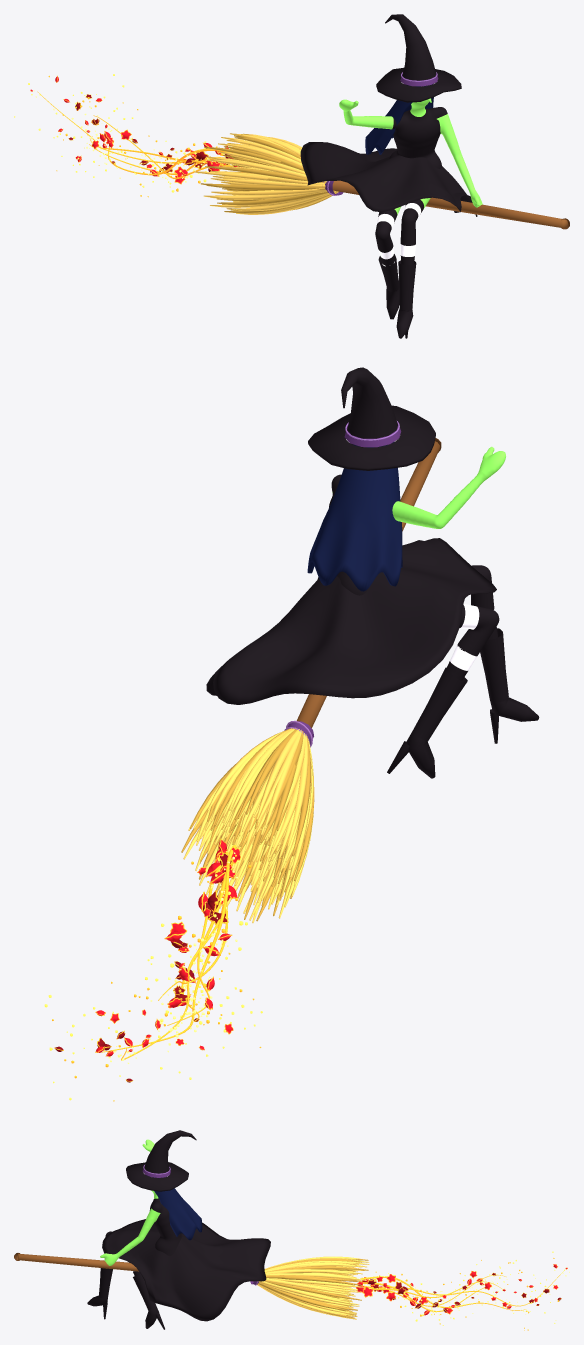
Rendered from witch_broom.glb.
3 views of the same model, one above another, from view 1: azimuth 30°, elevation 25°; view 2: azimuth 150°, elevation 25°; view 3: azimuth 270°, elevation 25° (orthographic). The views are drawn at different scales.
Parts seen in each view (by area): view 1: HW_Witch_Ride, HW_Broom, HW_StarTrail; view 2: HW_Witch_Ride, HW_Broom, HW_StarTrail; view 3: HW_Witch_Ride, HW_Broom, HW_StarTrail.
Part boxes in pixels (x1,y1,x2,y2): HW_Witch_Ride: [300, 14, 482, 338]; HW_Broom: [194, 133, 569, 229]; HW_StarTrail: [14, 74, 242, 197]; HW_Witch_Ride: [206, 367, 539, 778]; HW_Broom: [181, 438, 441, 923]; HW_StarTrail: [44, 838, 262, 1101]; HW_Witch_Ride: [87, 1130, 270, 1329]; HW_Broom: [14, 1253, 369, 1319]; HW_StarTrail: [356, 1251, 569, 1330].
Size of the model in its own units: 0.8711 by 1.18 by 2.64.
